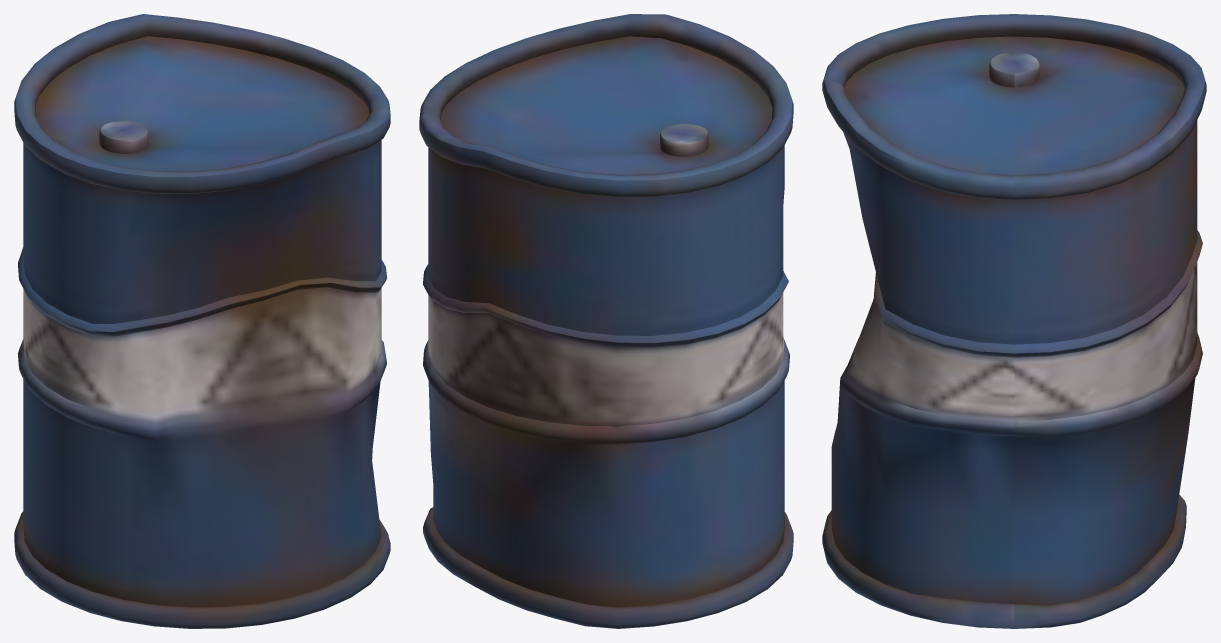
The model's file is hazard-drum-dented--1.gltf.
3 renders of one model, left to right at view 1: azimuth 30°, elevation 25°; view 2: azimuth 150°, elevation 25°; view 3: azimuth 270°, elevation 25°, orthographic. The views are drawn at different scales.
Parts seen in each view (by area): view 1: Cylinder.065; view 2: Cylinder.065; view 3: Cylinder.065.
Boxes of the visible parts, x1,y1,x2,y2 form: Cylinder.065: (14,14,390,628); Cylinder.065: (419,14,793,628); Cylinder.065: (822,14,1206,628).
Size of the model in its own units: 0.6234 by 0.85 by 0.6234.
1 material, 1 textured.
